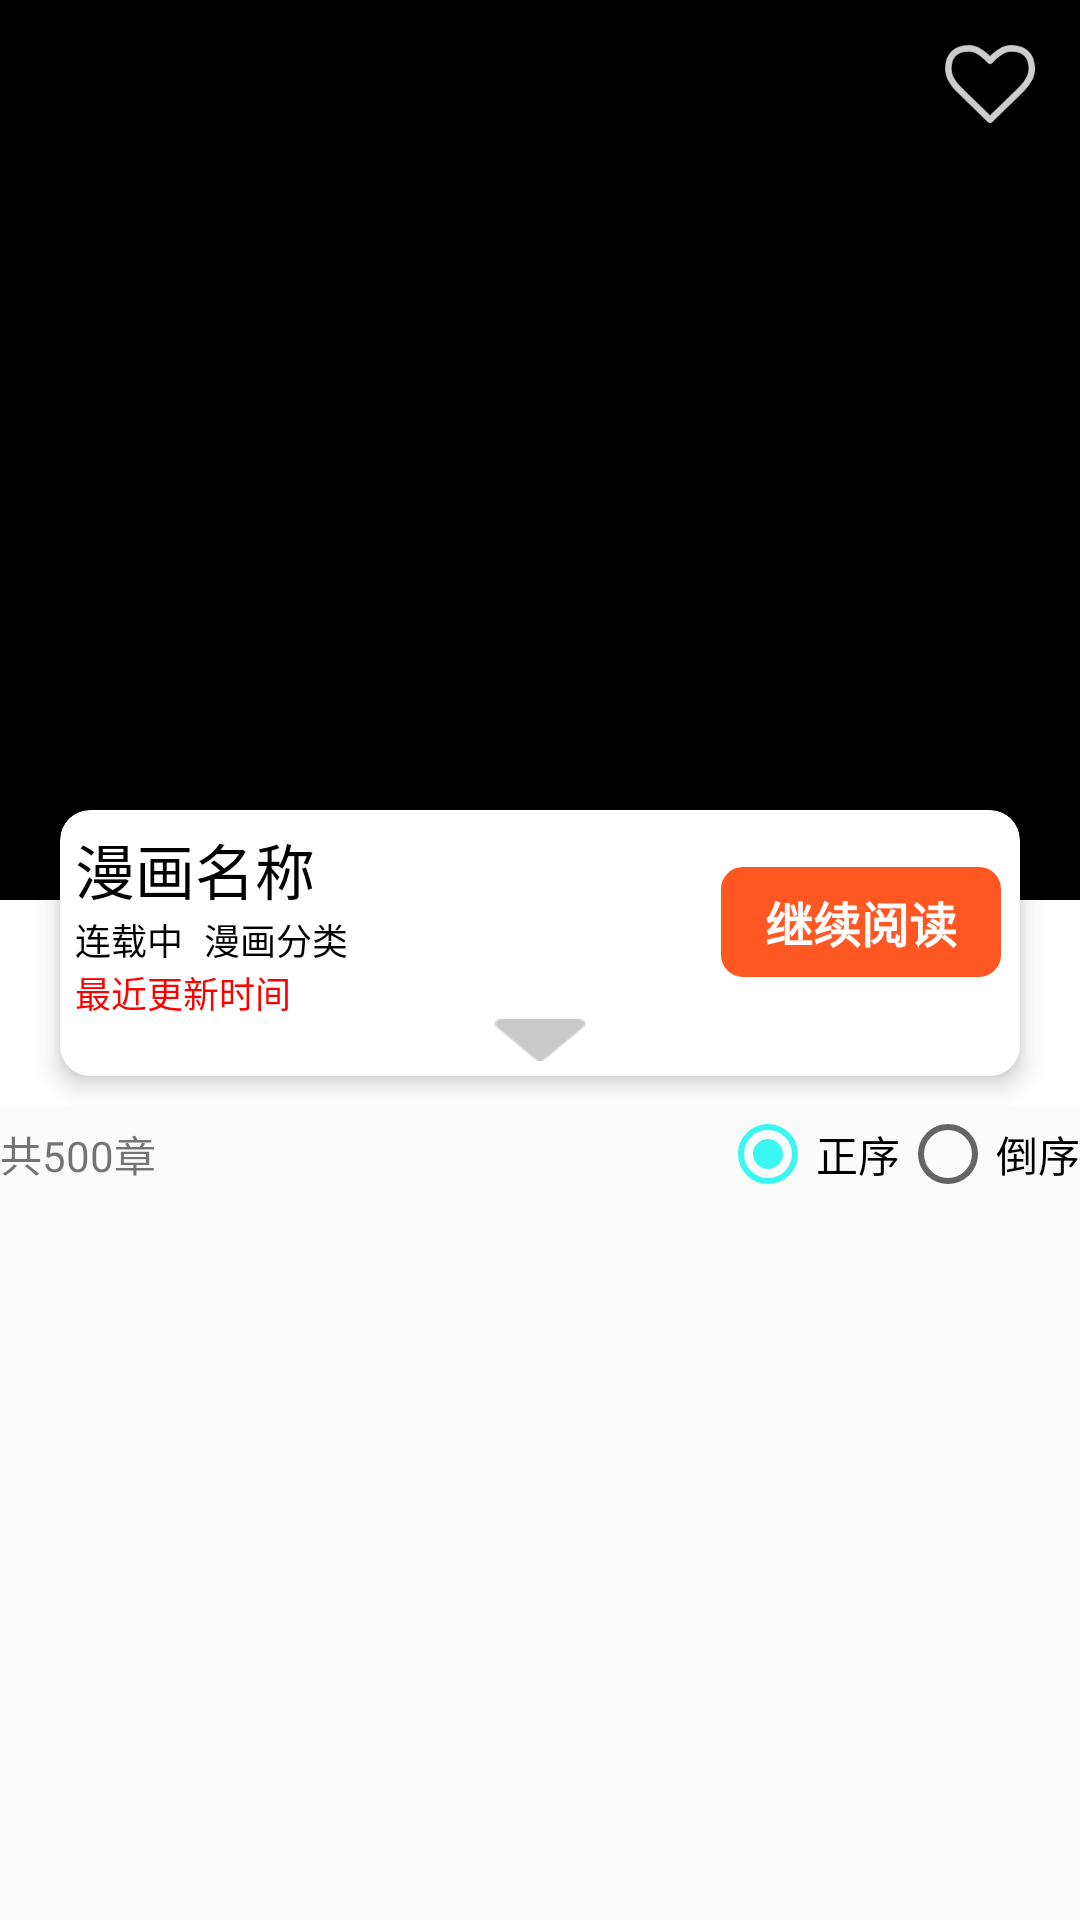

Point at icon controls on the screen. Image size 1080w x 1920h, points as (x,y).
check collection: (990,84)
